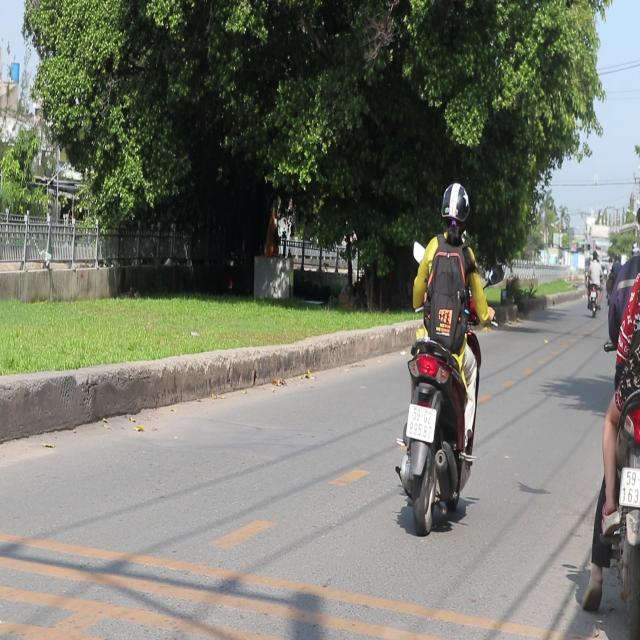helmet: (440, 181, 470, 241), (634, 185, 640, 245)
licenseplate: (396, 176, 486, 535), (581, 172, 639, 630)
nohelmet: (406, 404, 436, 442), (620, 466, 639, 506)
